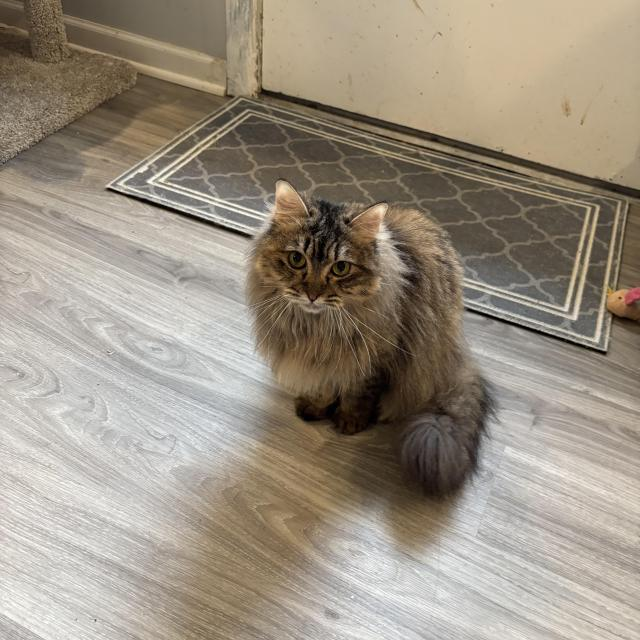persian_cat: (249, 173, 410, 333)
